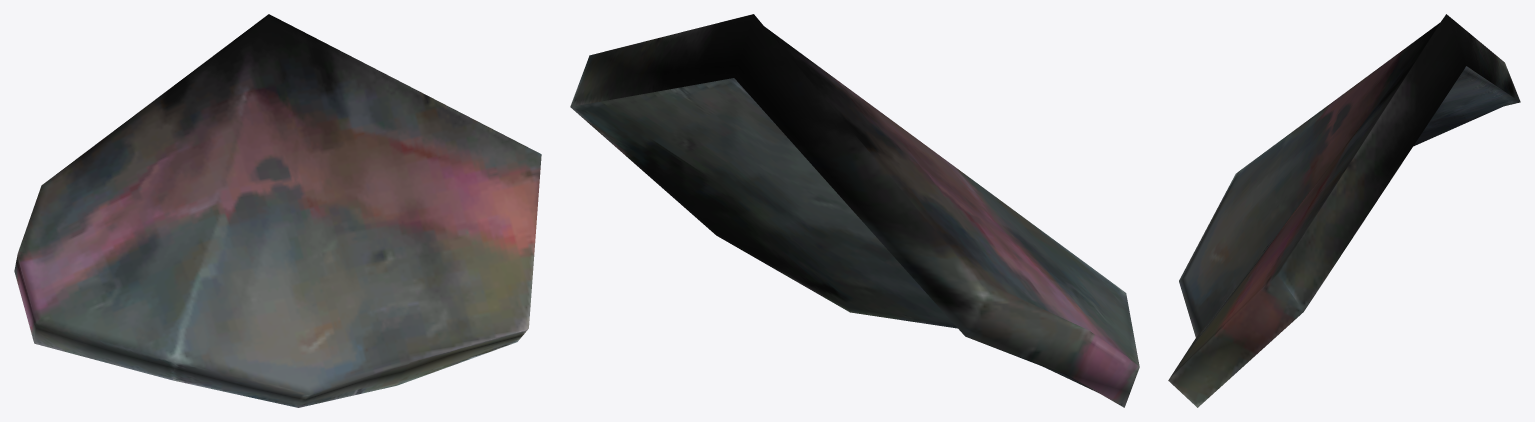
The model's file is ord_item_sav_debris_small_07.glb.
3 renders of one model, left to right at view 1: azimuth 30°, elevation 25°; view 2: azimuth 150°, elevation 25°; view 3: azimuth 270°, elevation 25°, orthographic. The views are drawn at different scales.
Parts seen in each view (by area): view 1: ord_item_sav_debris_small_07; view 2: ord_item_sav_debris_small_07; view 3: ord_item_sav_debris_small_07.
Boxes of the visible parts, bbox=[...] form: ord_item_sav_debris_small_07: bbox=[14, 14, 541, 407]; ord_item_sav_debris_small_07: bbox=[570, 14, 1139, 407]; ord_item_sav_debris_small_07: bbox=[1168, 14, 1520, 407].
Bounding box in the file's own units: 0.2859 × 0.1801 × 0.167.
1 material, 1 textured.
